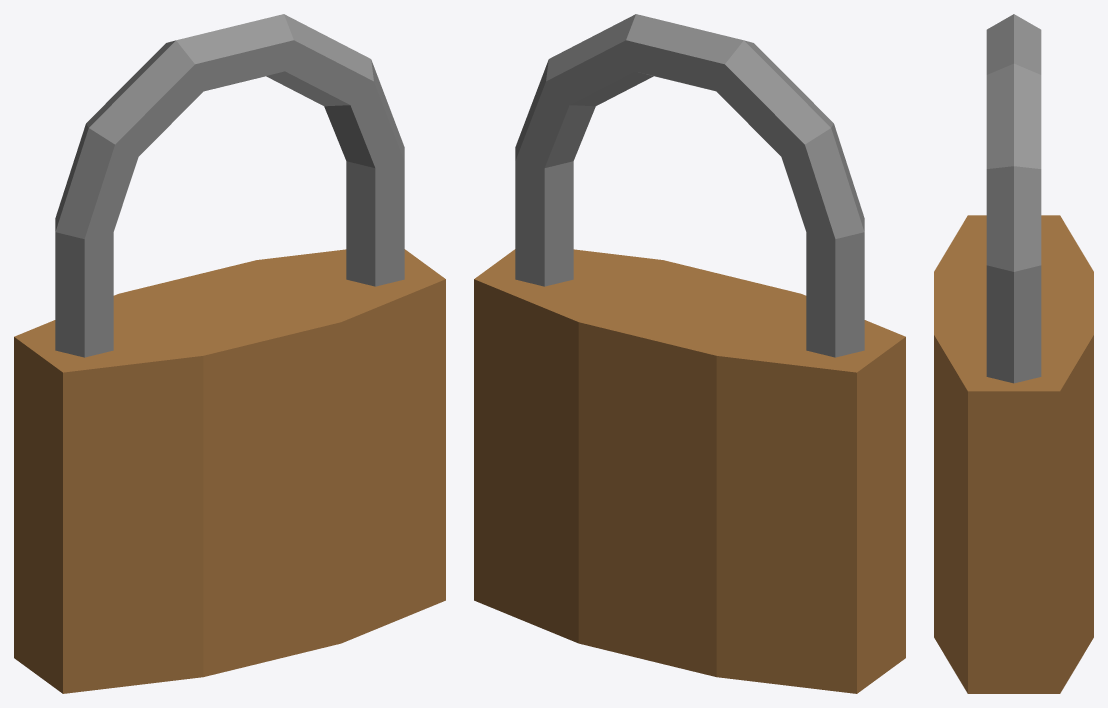
Rendered from SM_Icon_Lock_Closed_01.fbx.
3 views of the same model, side by side, from view 1: azimuth 30°, elevation 25°; view 2: azimuth 150°, elevation 25°; view 3: azimuth 270°, elevation 25° (orthographic). The views are drawn at different scales.
Visible parts, largest first — view 1: SM_Icon_Lock_Closed_01; view 2: SM_Icon_Lock_Closed_01; view 3: SM_Icon_Lock_Closed_01.
Boxes of the visible parts, left/top/right/bottom form: SM_Icon_Lock_Closed_01: left=14, top=14, right=445, bottom=693; SM_Icon_Lock_Closed_01: left=474, top=14, right=905, bottom=693; SM_Icon_Lock_Closed_01: left=934, top=14, right=1093, bottom=693.
Bounding box in the file's own units: 32.98 × 49.56 × 12.64.
